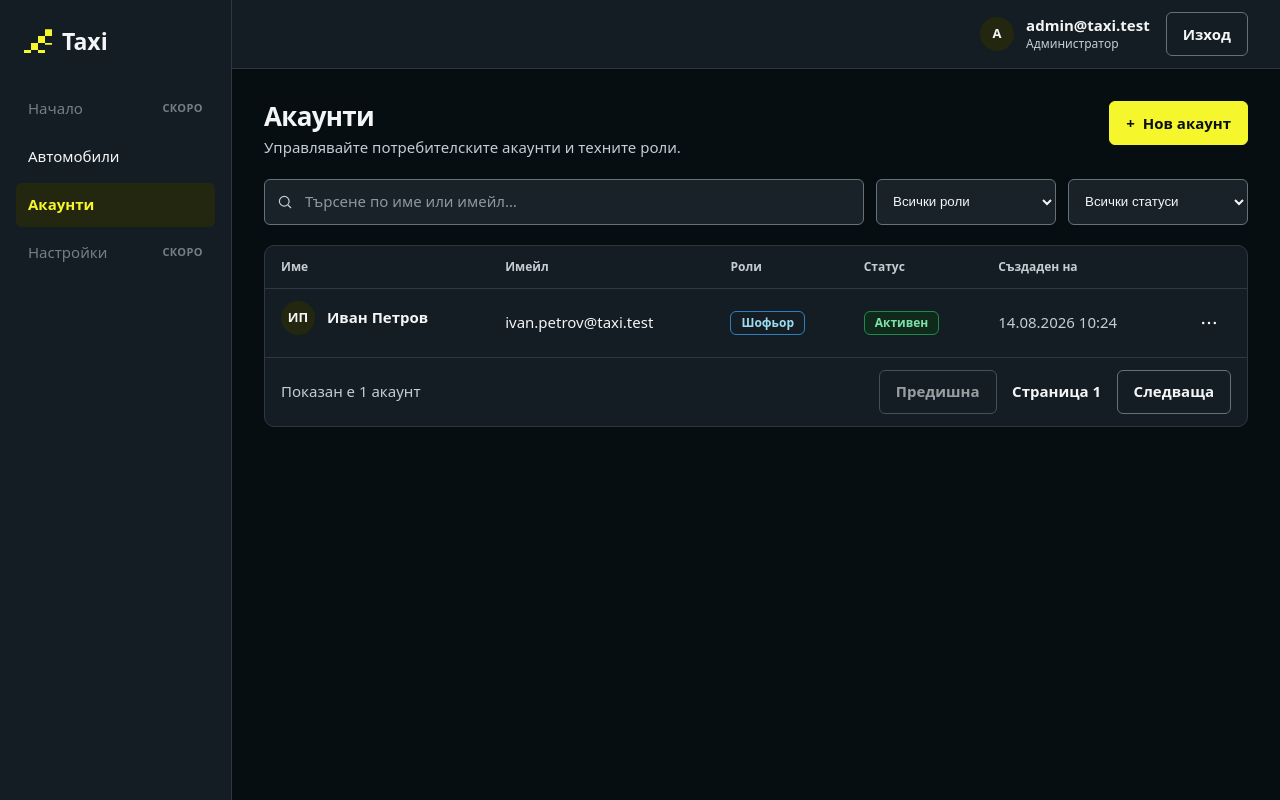
Scenario: AccountsPage (mocked account port, not live integration) › pages forward only while the API reports another page
Check: the text "Иван Петров" is shown, box [327,306,428,329]
Check: the button "Предишна" is disabled, box [879,370,997,414]
Click the button "Следваща" at (1174, 392), box [1117,370,1231,414]
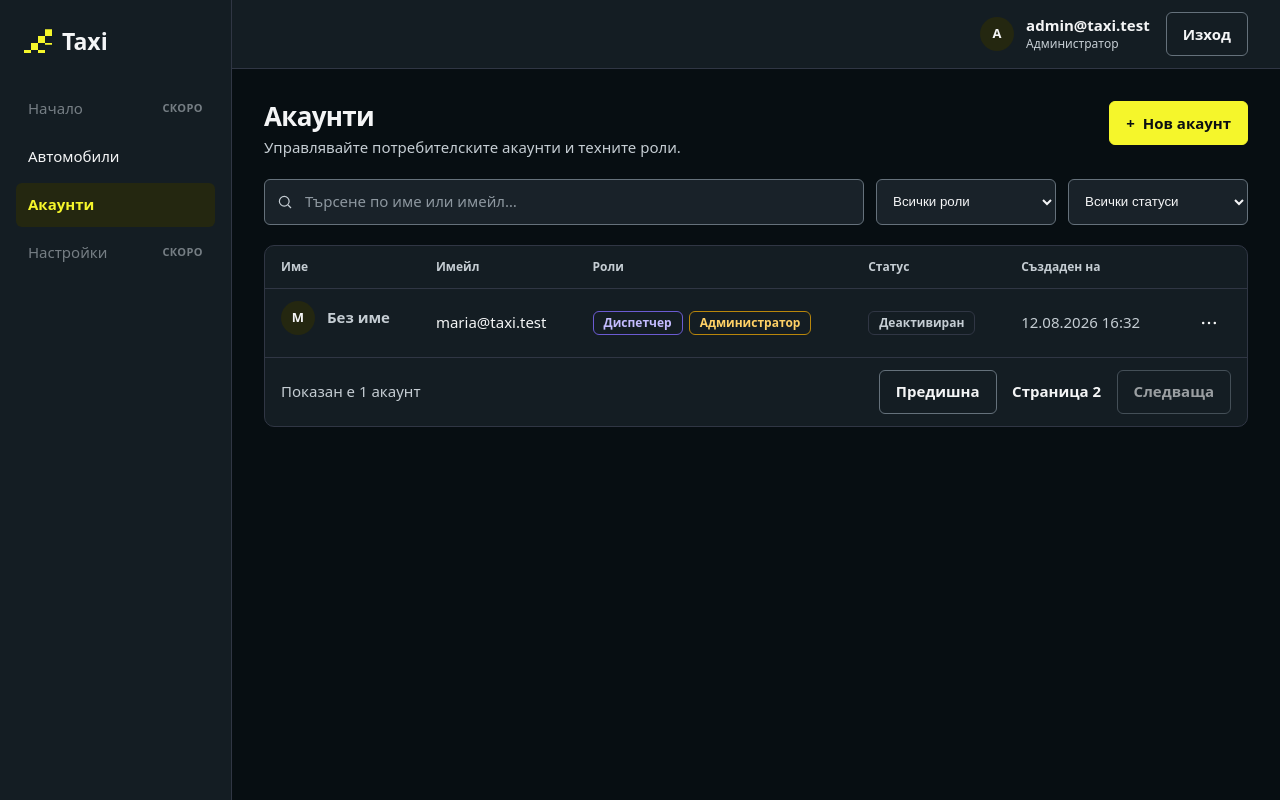
Check: the text "maria@taxi.test" is shown, box [420,289,576,357]
Check: the button "Следваща" is disabled, box [1117,370,1231,414]
